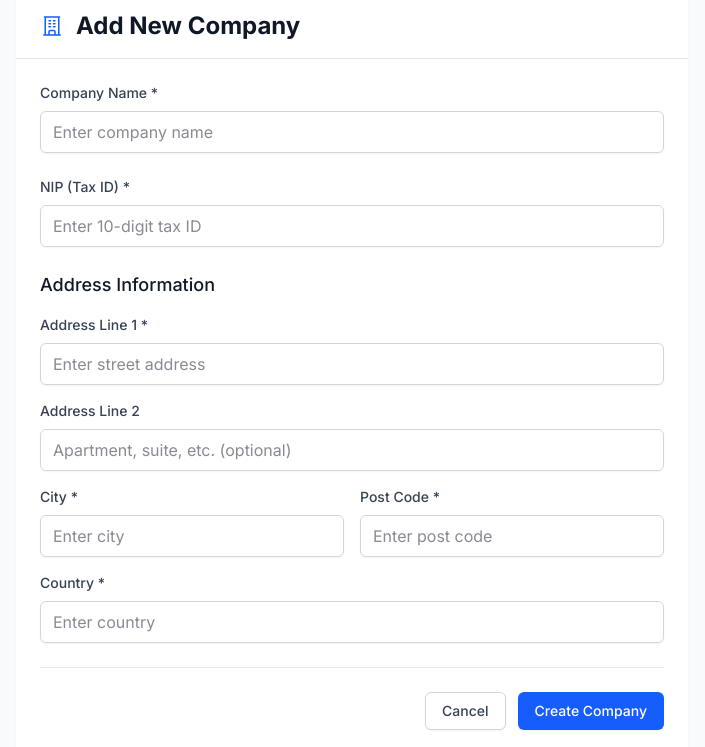
Test: CompanyForm › keeps only digits in the NIP and caps it at ten
Type "12-34 5678901234" into the field with id "nip" at (352, 226), box left=40, top=205, right=664, bottom=247
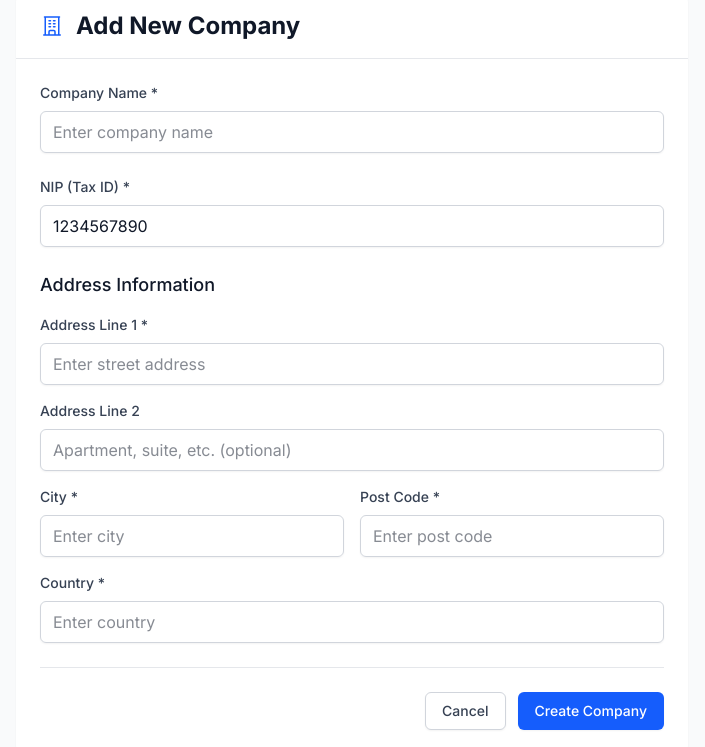
Now the field with id "nip" holds "1234567890", box left=40, top=205, right=664, bottom=247
